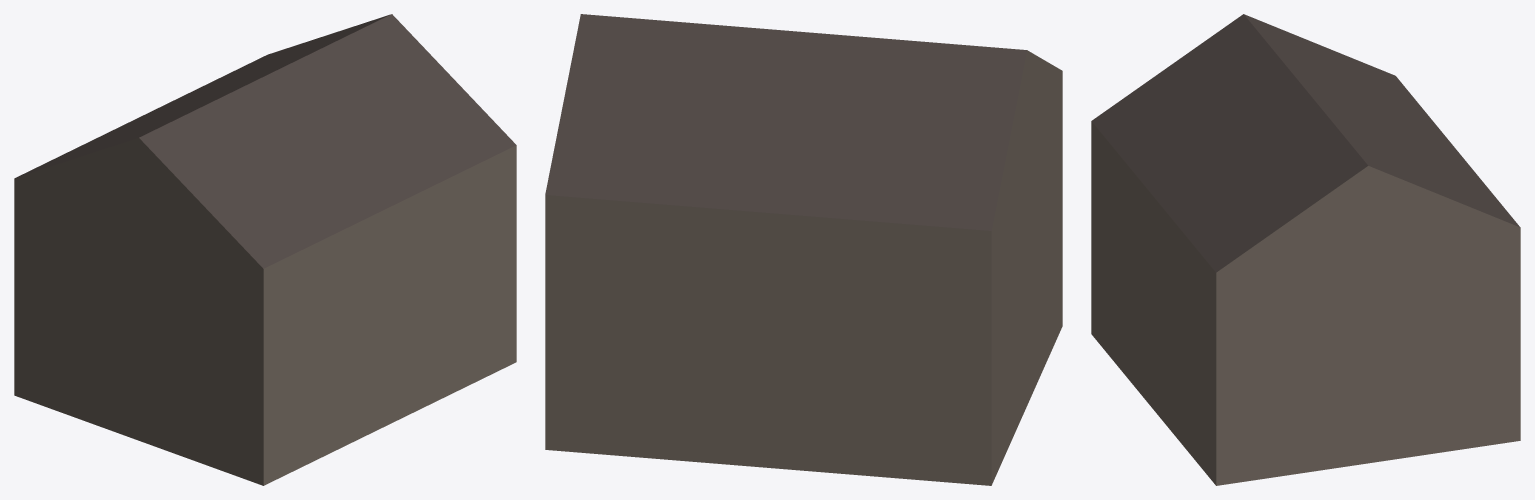
The picture shows the model from 3 angles, left to right: view 1: azimuth 30°, elevation 25°; view 2: azimuth 150°, elevation 25°; view 3: azimuth 270°, elevation 25°; orthographic projection. The views are drawn at different scales.
Parts seen in each view (by area): view 1: HP-w1198840875; view 2: HP-w1198840875; view 3: HP-w1198840875.
Boxes of the visible parts, x1,y1,x2,y2 form: HP-w1198840875: (14, 14, 516, 485); HP-w1198840875: (545, 14, 1062, 485); HP-w1198840875: (1091, 14, 1520, 485).
Size of the model in its own units: 11.88 by 8.37 by 10.94.
